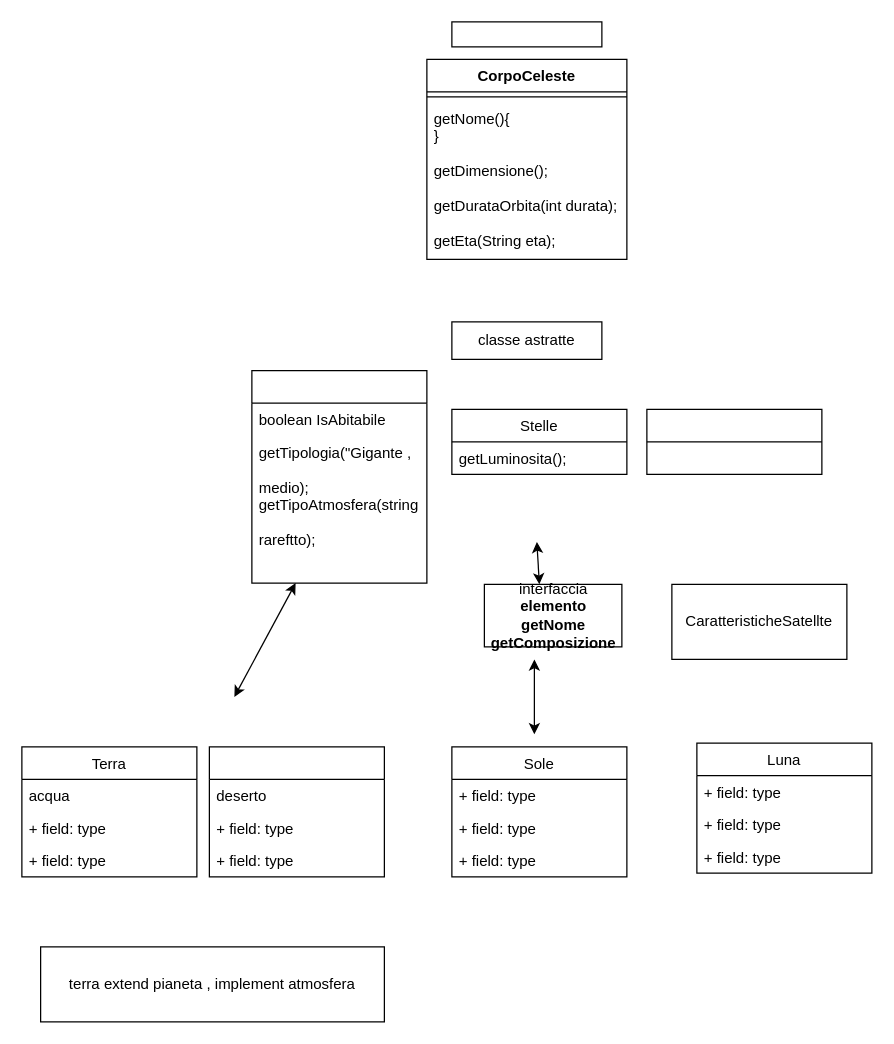
The diagram is 894 pixels wide and 1044 high, and some of its shapes have lost their labels. The shapes that lost their labels are listed below. From the top down, each one's box as (x1, y1, x2, y2) in pixels, then its label:
(451, 21, 602, 47): classe astratta
(646, 408, 822, 474): Satelliti
(251, 369, 427, 583): Pianeti
(208, 746, 384, 877): Marte
